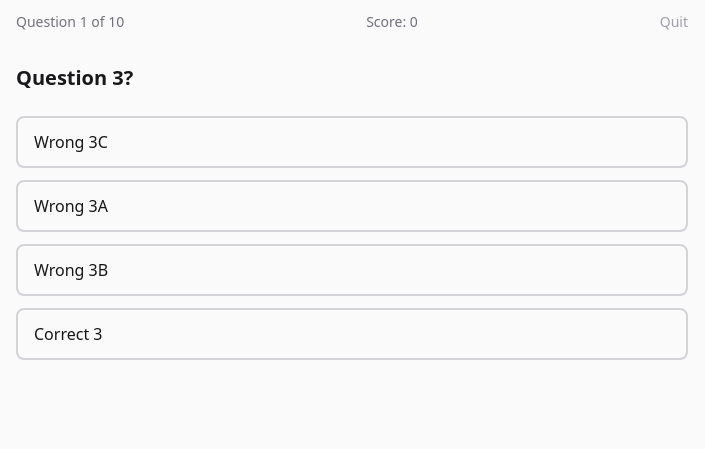
it: QuizPage › should disable answer buttons after answering
The width and height of the screenshot is (705, 449).
// Answer the question
Click the button "Correct 3": (68, 334) [16,308,688,360]
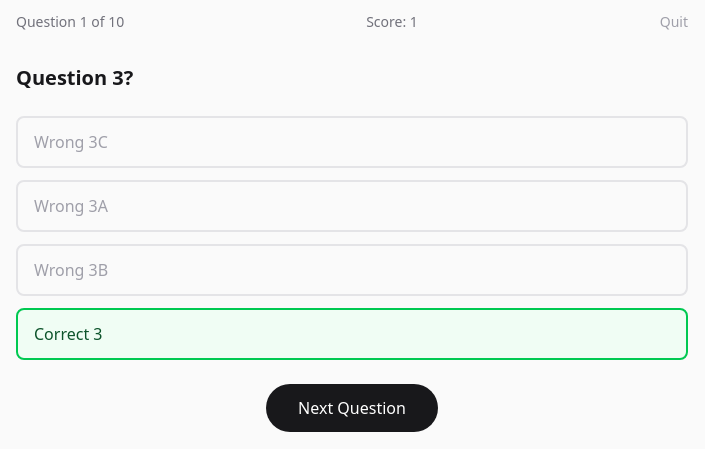
Check: the button "Wrong 3C" is disabled, box [16,116,688,168]
Check: the button "Wrong 3A" is disabled, box [16,180,688,232]
Check: the button "Wrong 3B" is disabled, box [16,244,688,296]
